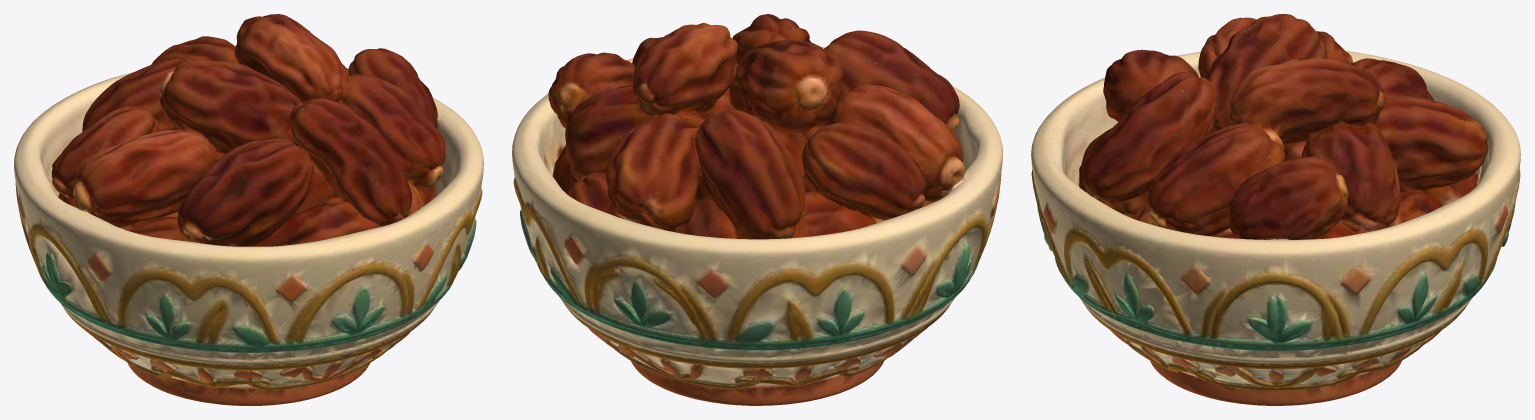
Rendered from Meshy_AI_model.glb.
3 views of the same model, side by side, from view 1: azimuth 30°, elevation 25°; view 2: azimuth 150°, elevation 25°; view 3: azimuth 270°, elevation 25° (orthographic). The views are drawn at different scales.
Visible parts, largest first — view 1: mesh_node; view 2: mesh_node; view 3: mesh_node.
Boxes of the visible parts, x1=… form: mesh_node: x1=14, y1=14, x2=483, y2=405; mesh_node: x1=512, y1=14, x2=1002, y2=405; mesh_node: x1=1031, y1=14, x2=1520, y2=405.
Size of the model in its own units: 1.9 by 1.36 by 1.9.
Materials: 1 (1 with a texture image).
